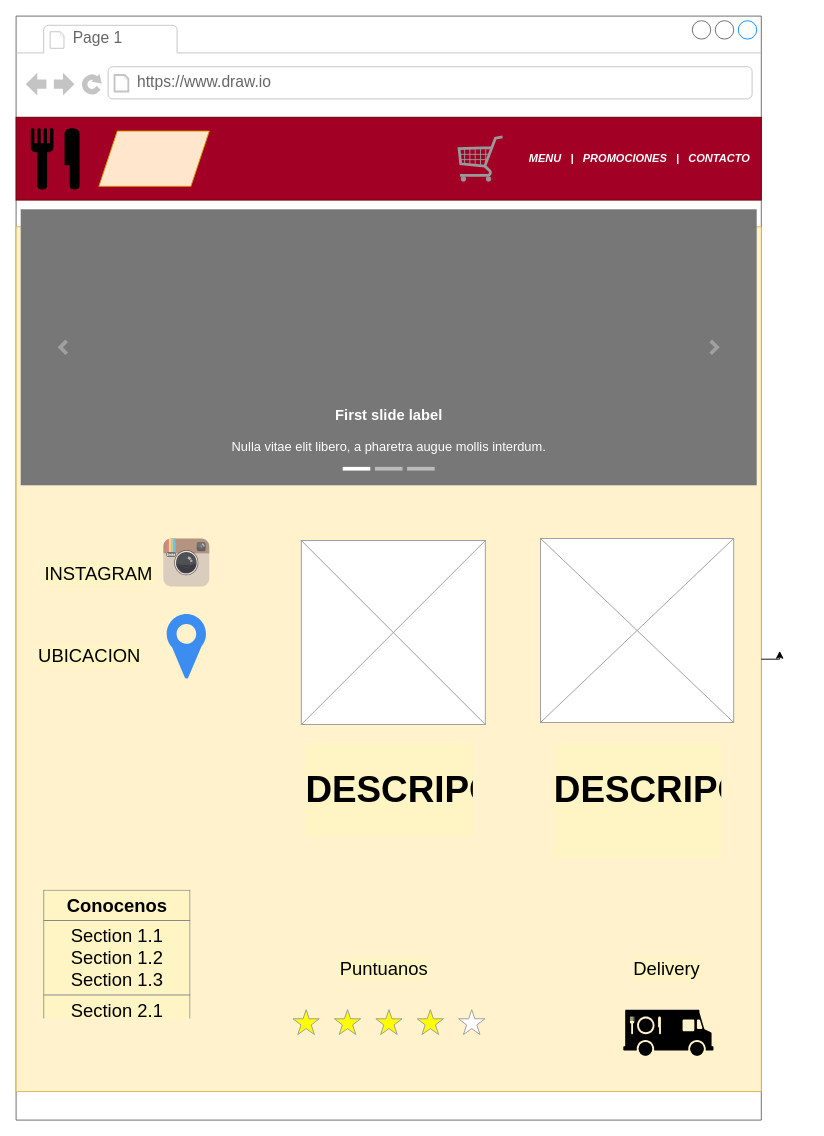
The diagram is 824 pixels wide and 1136 high, and some of its shapes have lost their labels. Here are the shapes that lost their labels. From the top down, the centre of each, then its label:
At point (153, 158): "NIETOS".
At point (388, 347): "First slide".
